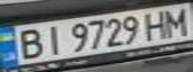2: (103, 15, 127, 47)
7: (84, 17, 109, 51)
9: (66, 19, 90, 53), (121, 12, 145, 45)
B: (9, 26, 48, 60)
H: (139, 8, 172, 41)
I: (39, 22, 69, 56)
M: (160, 4, 193, 37)
